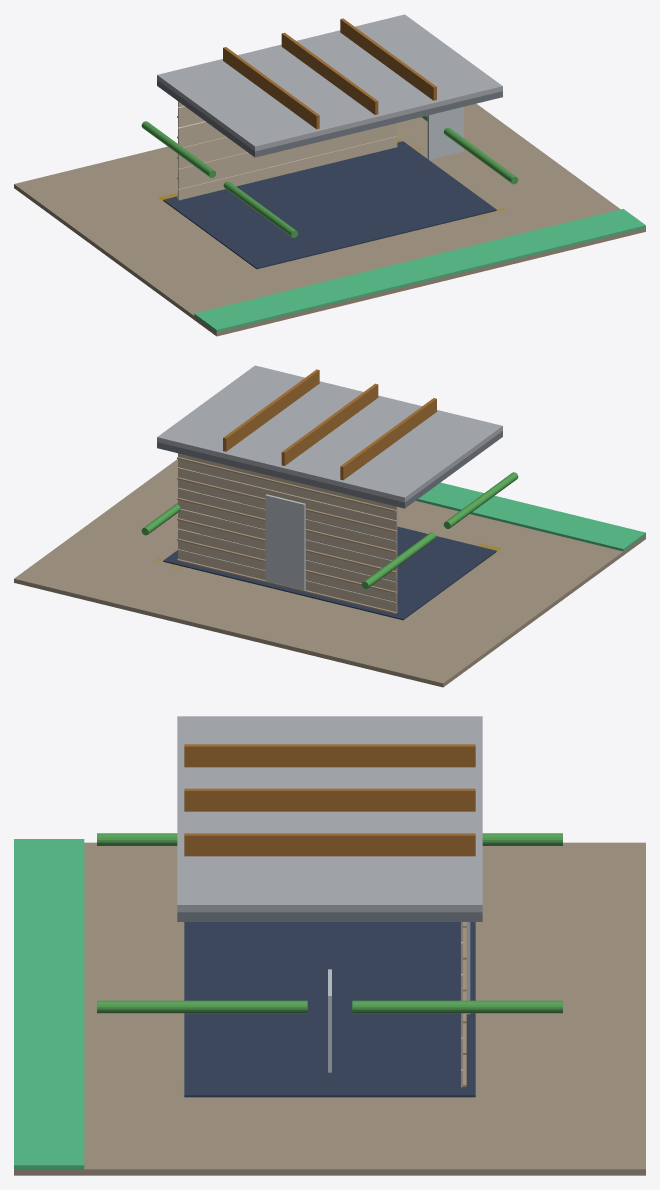
Rendered from stage_11_finishing.glb.
3 renders of one model, top to bottom at view 1: azimuth 30°, elevation 25°; view 2: azimuth 150°, elevation 25°; view 3: azimuth 270°, elevation 25°, orthographic. The views are drawn at different scales.
Parts seen in each view (by area): view 1: world; view 2: world; view 3: world.
Part boxes in pixels (x1,y1,x2,y2): world: (14, 14, 645, 336); world: (14, 365, 645, 687); world: (14, 716, 645, 1175).
Bounding box in the file's own units: 11 × 4.2 × 9.
